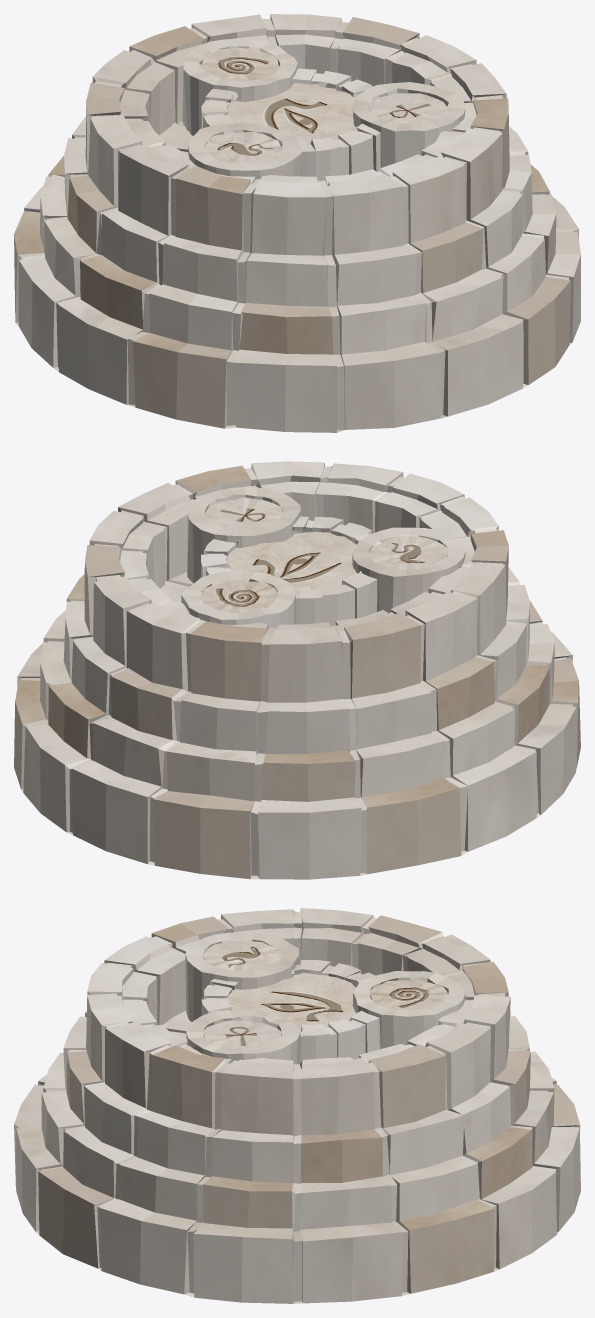
The model's file is stand.fbx.
3 views of the same model, one above another, from view 1: azimuth 30°, elevation 25°; view 2: azimuth 150°, elevation 25°; view 3: azimuth 270°, elevation 25° (orthographic). The views are drawn at different scales.
Visible parts, largest first — view 1: Pedestal; view 2: Pedestal; view 3: Pedestal.
Part boxes in pixels (left/top/right/bottom): Pedestal: left=14, top=14, right=580, bottom=432; Pedestal: left=14, top=461, right=580, bottom=879; Pedestal: left=14, top=908, right=580, bottom=1303.
Size of the model in its own units: 640 by 261 by 674.
Materials: 1 (1 with a texture image).
